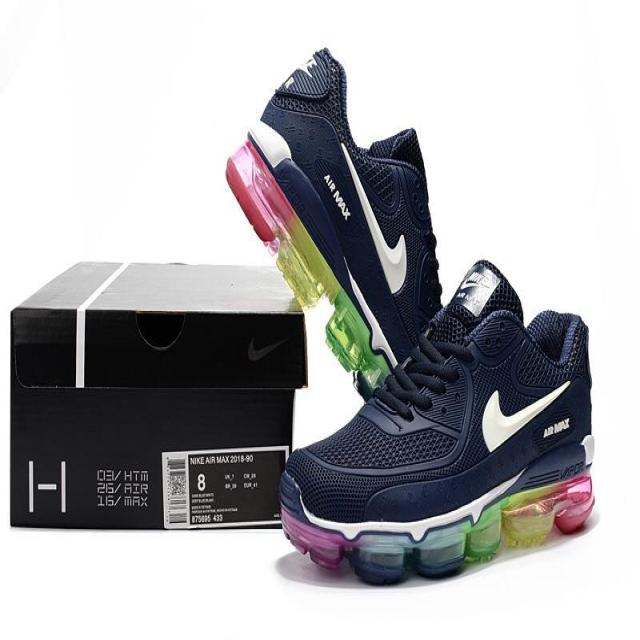shoe: (279, 254, 625, 598), (194, 5, 448, 405)
